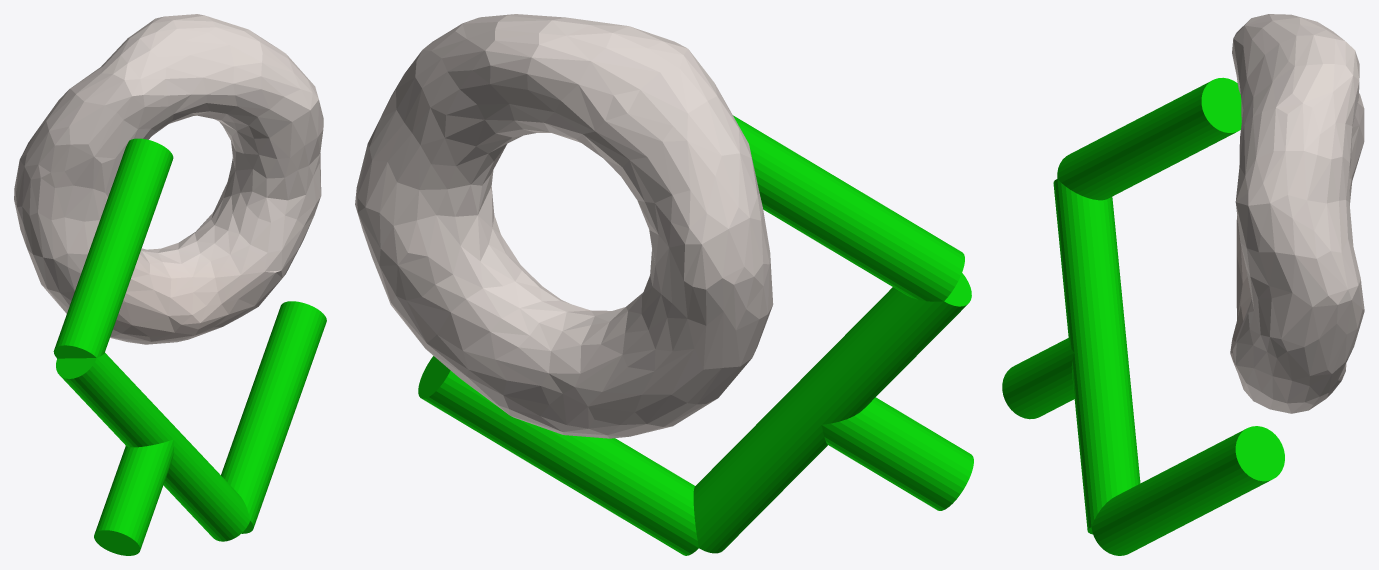
The model's file is round_001_trial_000.obj.
3 renders of one model, left to right at view 1: azimuth 30°, elevation 25°; view 2: azimuth 150°, elevation 25°; view 3: azimuth 270°, elevation 25°, orthographic. The views are drawn at different scales.
Visible parts, largest first — view 1: geometry_0, geometry_1; view 2: geometry_0, geometry_1; view 3: geometry_0, geometry_1.
Boxes of the visible parts, <box> form: geometry_0: <box>14,14,323,344</box>; geometry_1: <box>53,138,326,555</box>; geometry_0: <box>355,14,773,438</box>; geometry_1: <box>418,115,973,555</box>; geometry_0: <box>1230,14,1364,413</box>; geometry_1: <box>1002,77,1284,555</box>.
Bounding box in the file's own units: 0.0833 × 0.1019 × 0.0632.
